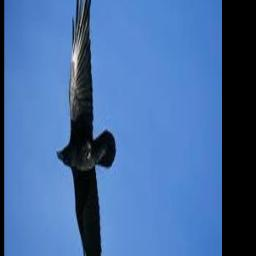Crow: (56, 0, 117, 256)
